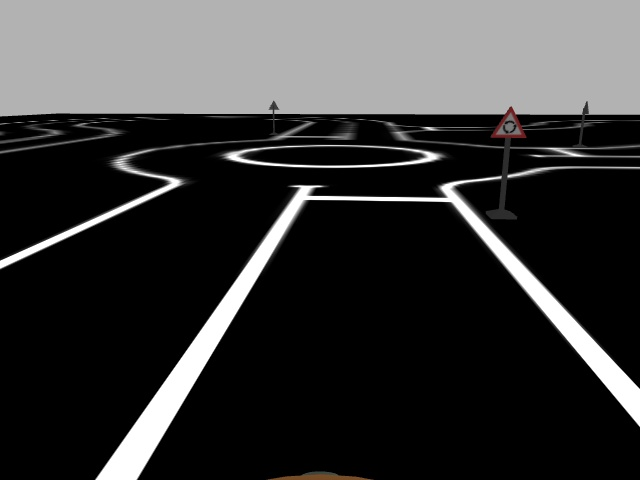roundabout: (489, 105, 527, 138)
